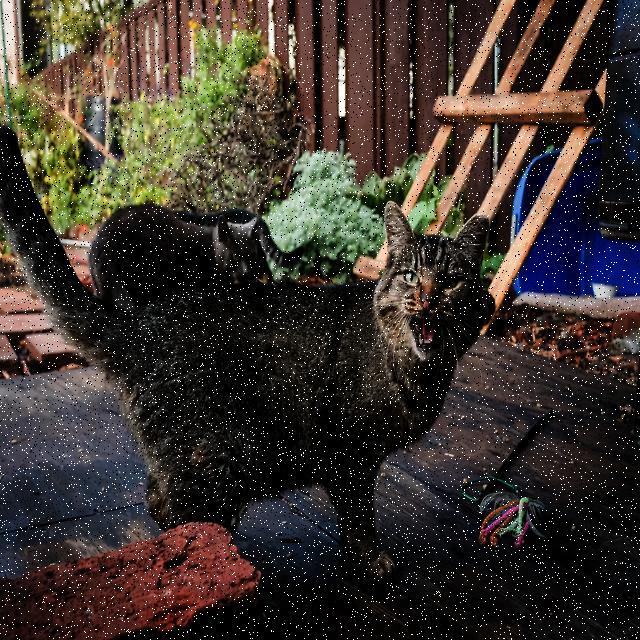cat: (0, 128, 490, 581), (89, 205, 265, 311), (259, 218, 304, 266), (176, 210, 255, 226)
